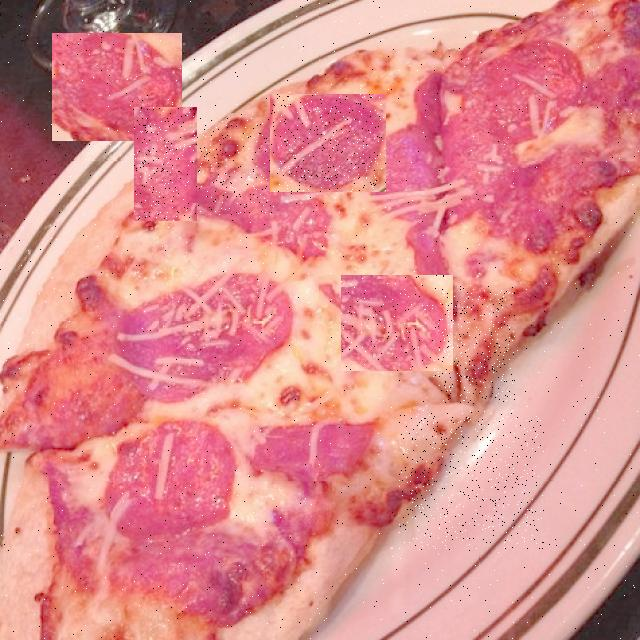Pepperoni: (399, 410, 544, 550), (52, 33, 182, 141), (270, 94, 386, 192), (341, 275, 453, 371), (438, 286, 515, 403), (191, 118, 273, 216), (134, 107, 197, 221)
Pizza: (0, 0, 640, 640)
